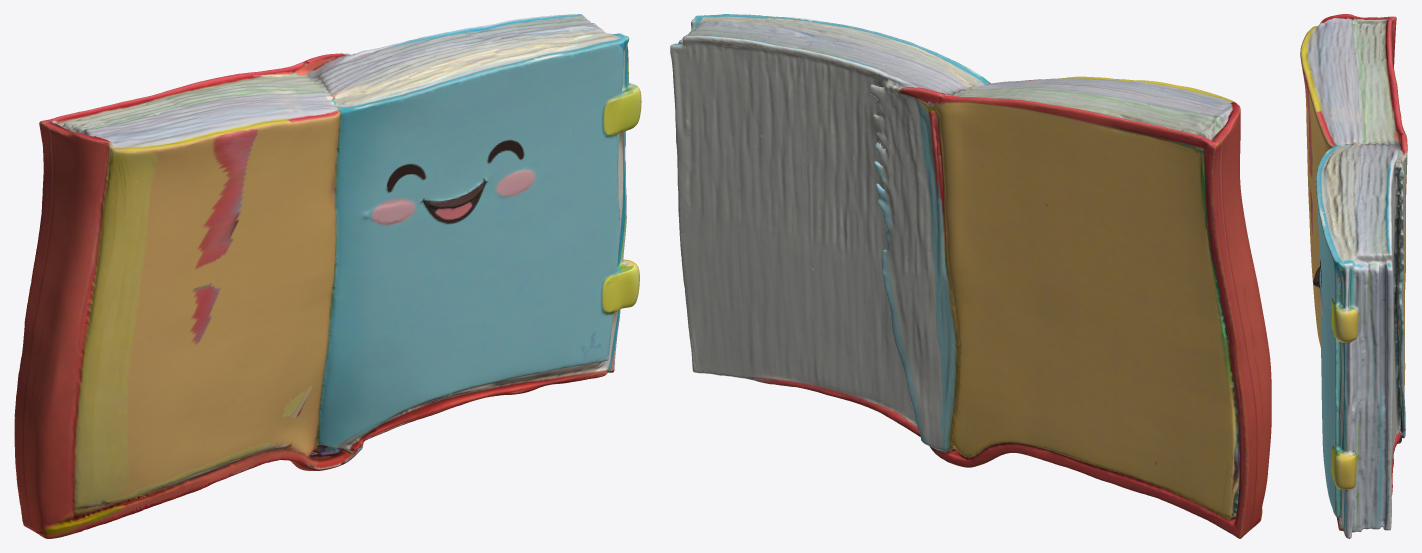
The model's file is book.glb.
3 renders of one model, left to right at view 1: azimuth 30°, elevation 25°; view 2: azimuth 150°, elevation 25°; view 3: azimuth 270°, elevation 25°, orthographic. The views are drawn at different scales.
Bounding box in the file's own units: 65482 × 42099 × 12222.
1 material, 1 textured.
